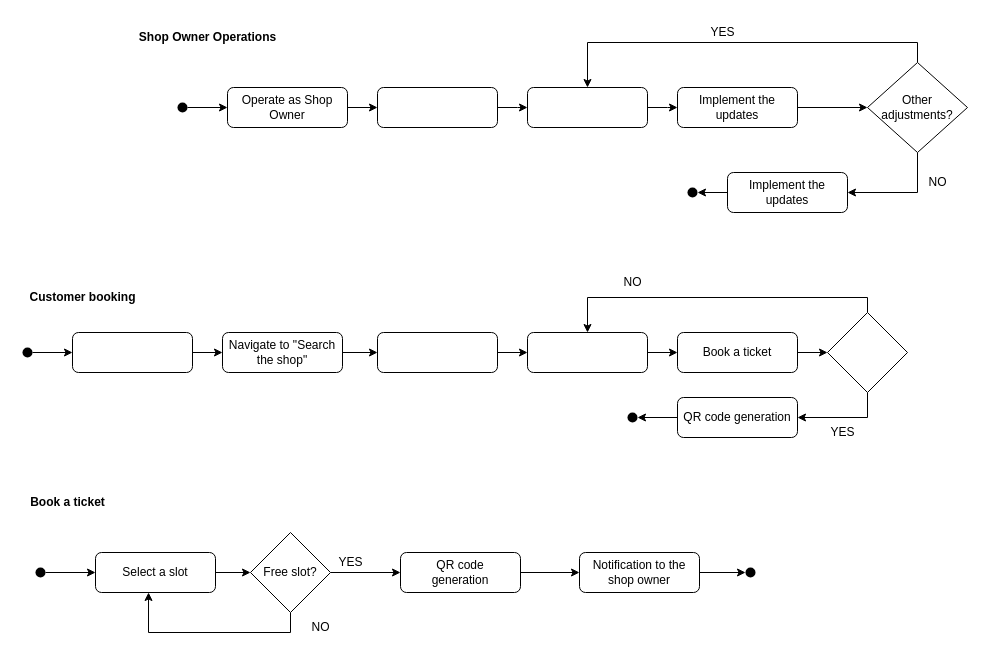
Image size: 985x659. Some labels were removed from this diagram. Here are the shapes that lost their labels. From the top down, the centre of each, then its label:
point (437, 107): Navigate to "My shop section"
point (587, 107): Select the desired operation
point (132, 352): Operate as customer
point (437, 352): Select Shop category
point (587, 352): Select the desired shop
point (867, 352): Operation successful?
